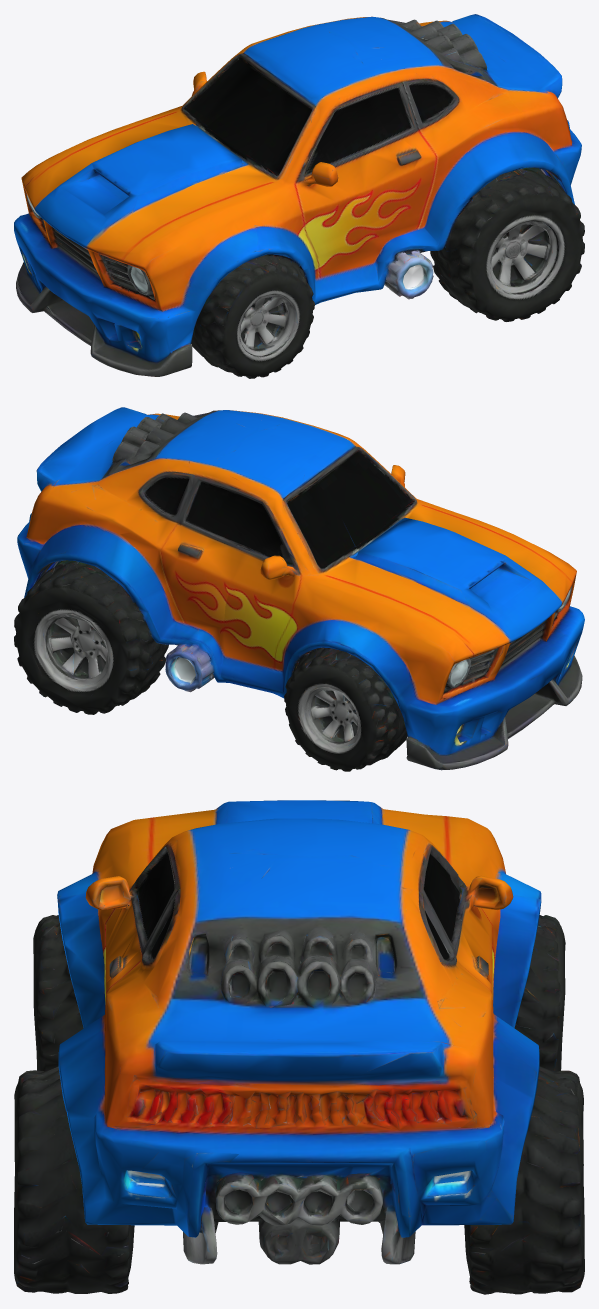
The model's file is musculo.glb.
3 renders of one model, top to bottom at view 1: azimuth 30°, elevation 25°; view 2: azimuth 150°, elevation 25°; view 3: azimuth 270°, elevation 25°, orthographic. The views are drawn at different scales.
Visible parts, largest first — view 1: Mesh_0; view 2: Mesh_0; view 3: Mesh_0.
Boxes of the visible parts, x1,y1,x2,y2 form: Mesh_0: (14, 14, 584, 378); Mesh_0: (14, 407, 584, 771); Mesh_0: (14, 800, 584, 1294).
Bounding box in the file's own units: 1.9 × 0.8986 × 1.26.
1 material, 1 textured.
